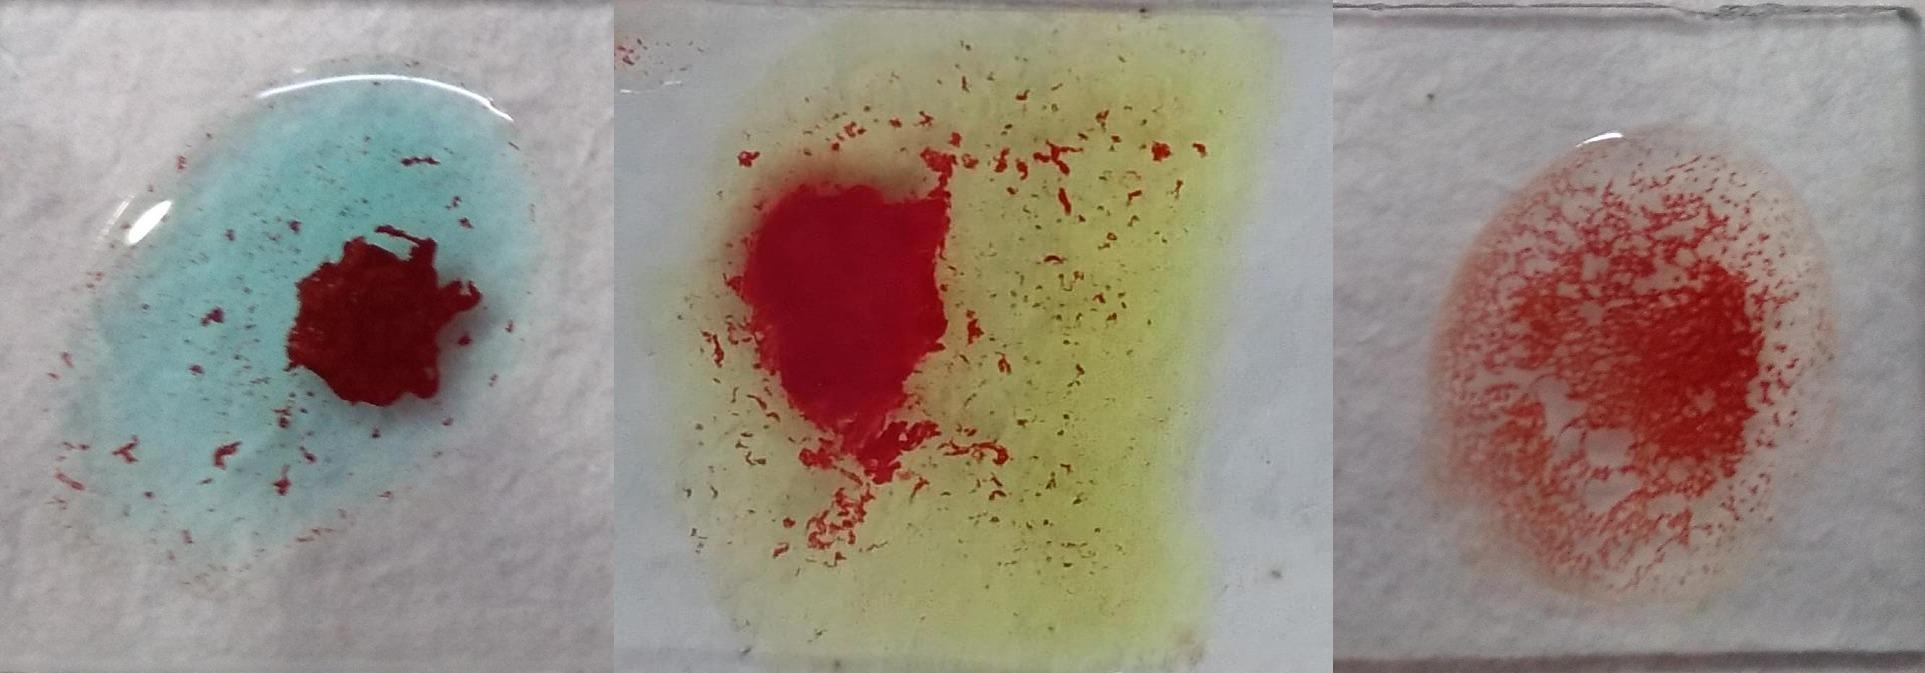A: (50, 74, 546, 555)
B: (681, 28, 1174, 625)
D: (1431, 106, 1830, 603)
